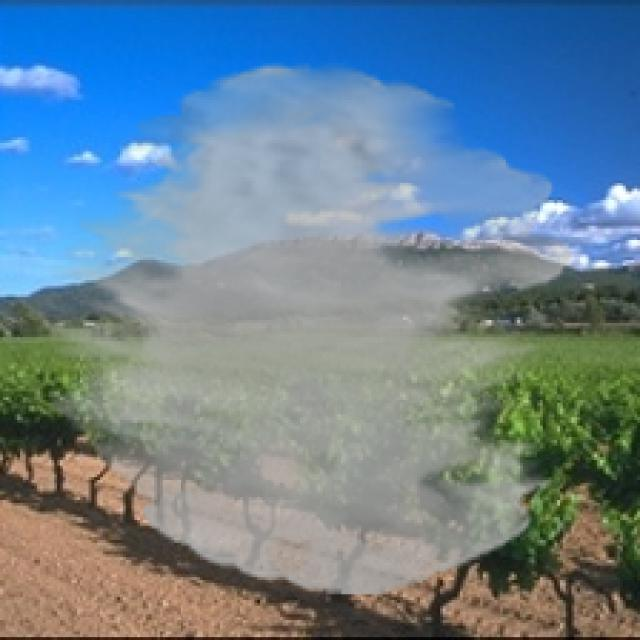smoke: (46, 63, 571, 594)
